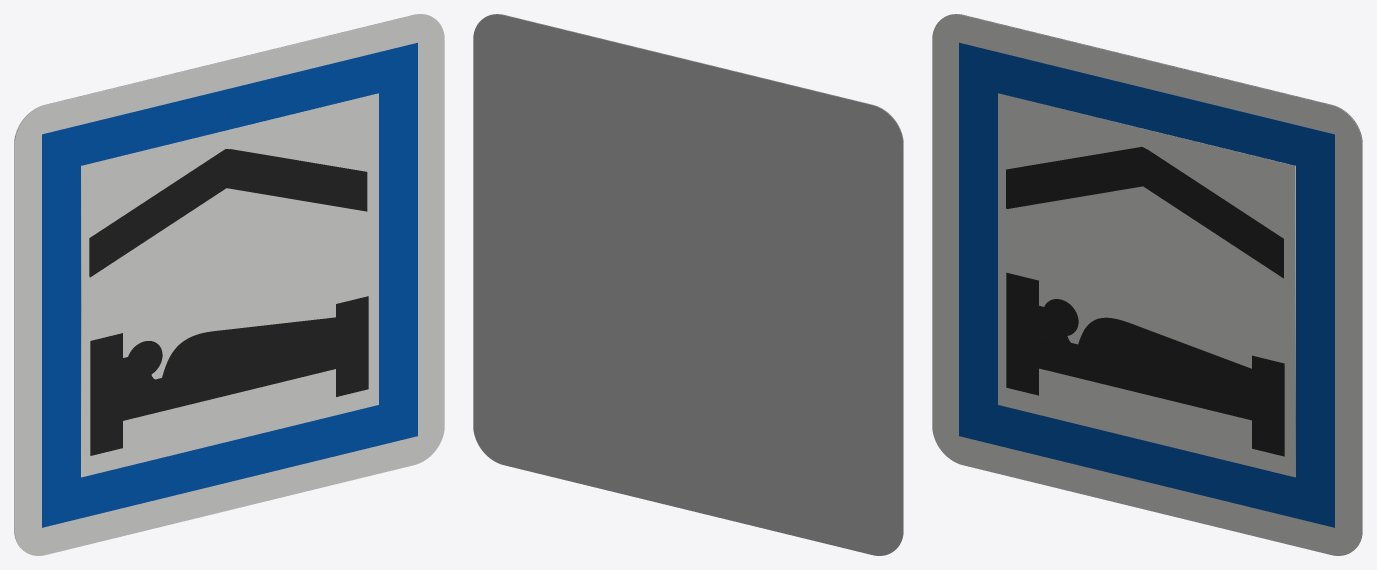
The picture shows the model from 3 angles, left to right: view 1: azimuth 30°, elevation 25°; view 2: azimuth 150°, elevation 25°; view 3: azimuth 330°, elevation 25°; orthographic projection.
Parts seen in each view (by area): view 1: CE5b_p02, CE5b_p01, CE5b_p00, CE5b_p05, CE5b_p03, CE5b_dos; view 2: CE5b_dos, CE5b_p00; view 3: CE5b_p02, CE5b_p01, CE5b_p00, CE5b_p05, CE5b_p03, CE5b_dos.
Part boxes in pixels (x1=…): CE5b_p02: x1=81, y1=93, x2=378, y2=477; CE5b_p01: x1=42, y1=42, x2=417, y2=527; CE5b_p00: x1=14, y1=14, x2=444, y2=555; CE5b_p05: x1=90, y1=296, x2=368, y2=455; CE5b_p03: x1=89, y1=149, x2=367, y2=277; CE5b_dos: x1=14, y1=14, x2=431, y2=547; CE5b_dos: x1=473, y1=14, x2=903, y2=555; CE5b_p00: x1=486, y1=14, x2=903, y2=547; CE5b_p02: x1=998, y1=93, x2=1295, y2=477; CE5b_p01: x1=959, y1=42, x2=1334, y2=527; CE5b_p00: x1=932, y1=14, x2=1362, y2=555; CE5b_p05: x1=1006, y1=272, x2=1284, y2=456; CE5b_p03: x1=1006, y1=147, x2=1283, y2=278; CE5b_dos: x1=945, y1=14, x2=1362, y2=547.
Bounding box in the file's own units: 0.7 × 0.6999 × 0.0039.
